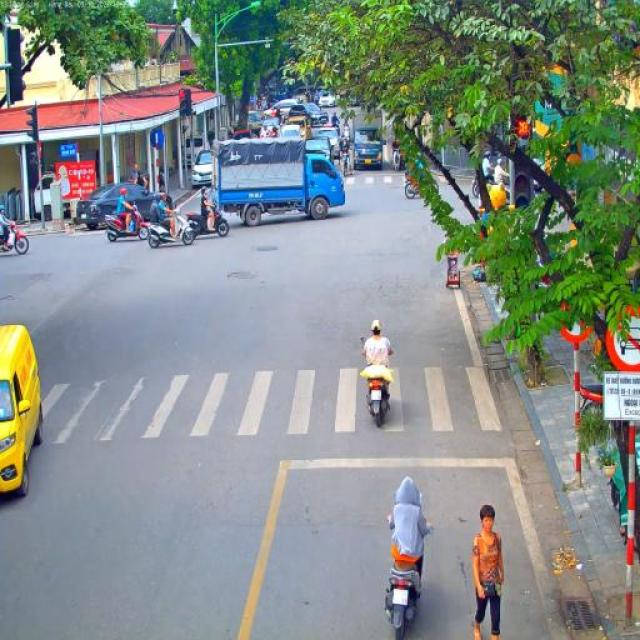car: (0, 324, 45, 501), (78, 182, 152, 229), (288, 102, 328, 128), (191, 149, 214, 189), (305, 136, 335, 166), (312, 127, 341, 158), (262, 98, 294, 124), (283, 116, 312, 144), (279, 123, 305, 142), (256, 116, 274, 136), (318, 92, 336, 108)
motorcycle: (384, 521, 434, 640), (358, 338, 394, 428), (140, 204, 196, 250), (104, 202, 152, 242), (184, 201, 230, 237), (580, 382, 614, 417), (0, 220, 31, 255), (472, 175, 512, 200), (402, 172, 422, 199), (338, 142, 352, 176), (392, 149, 402, 171), (339, 129, 352, 145), (330, 122, 340, 138), (277, 120, 287, 132), (272, 131, 278, 138)
truck: (212, 137, 346, 227), (352, 112, 388, 172), (233, 110, 261, 140)
